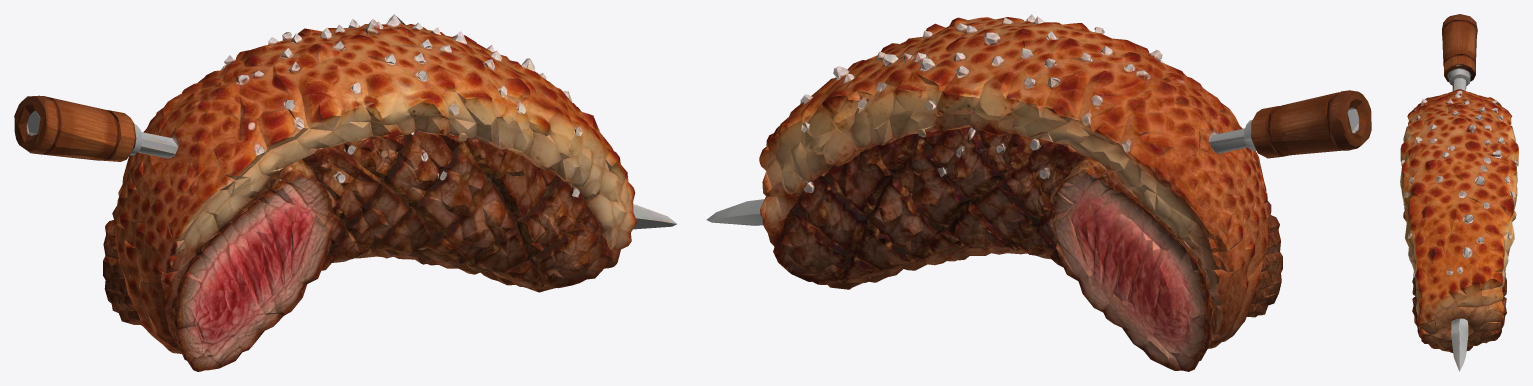
The model's file is picanha.m.glb.
The picture shows the model from 3 angles, left to right: view 1: azimuth 30°, elevation 25°; view 2: azimuth 150°, elevation 25°; view 3: azimuth 270°, elevation 25°; orthographic projection. The views are drawn at different scales.
Parts seen in each view (by area): view 1: output_unwrapped; view 2: output_unwrapped; view 3: output_unwrapped.
Part boxes in pixels (x1=…): output_unwrapped: x1=14, y1=14, x2=676, y2=371; output_unwrapped: x1=706, y1=14, x2=1371, y2=371; output_unwrapped: x1=1400, y1=14, x2=1518, y2=371.
Bounding box in the file's own units: 1.9 × 0.8729 × 0.4957.
Materials: 1 (1 with a texture image).
